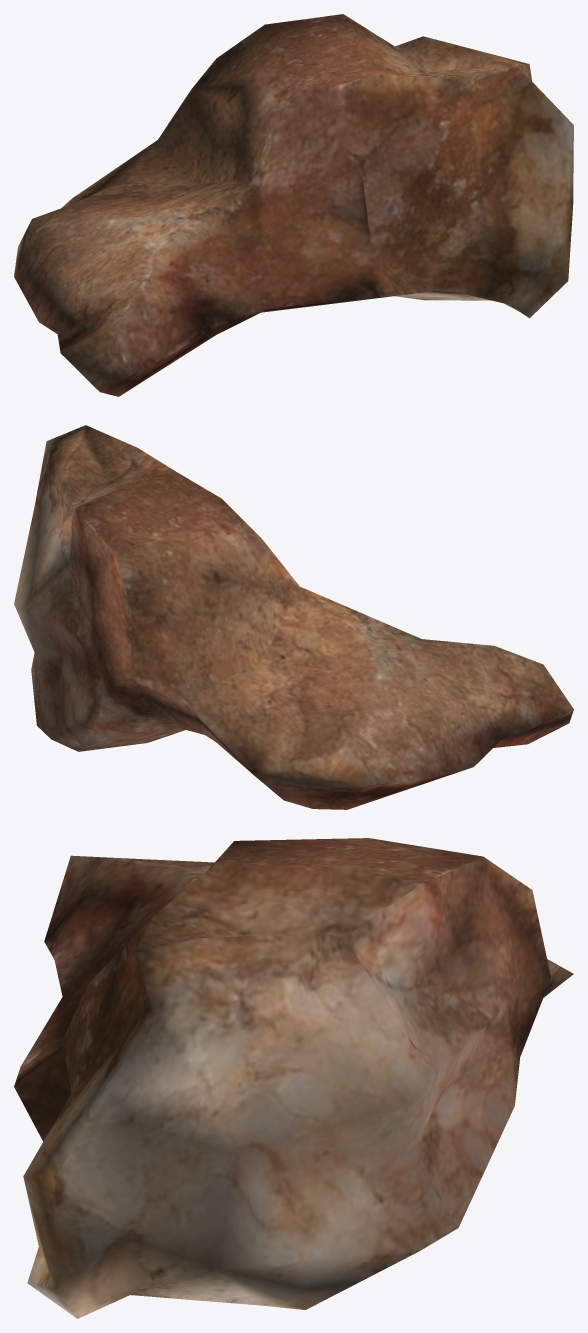
Rendered from stone_01.glb.
The picture shows the model from 3 angles, top to bottom: view 1: azimuth 30°, elevation 25°; view 2: azimuth 150°, elevation 25°; view 3: azimuth 270°, elevation 25°; orthographic projection. The views are drawn at different scales.
Parts seen in each view (by area): view 1: stone_01; view 2: stone_01; view 3: stone_01.
Boxes of the visible parts, x1=… form: stone_01: x1=14, y1=14, x2=573, y2=396; stone_01: x1=14, y1=425, x2=573, y2=809; stone_01: x1=14, y1=838, x2=573, y2=1318.
Size of the model in its own units: 0.1461 by 0.0703 by 0.0886.
1 material, 1 textured.
